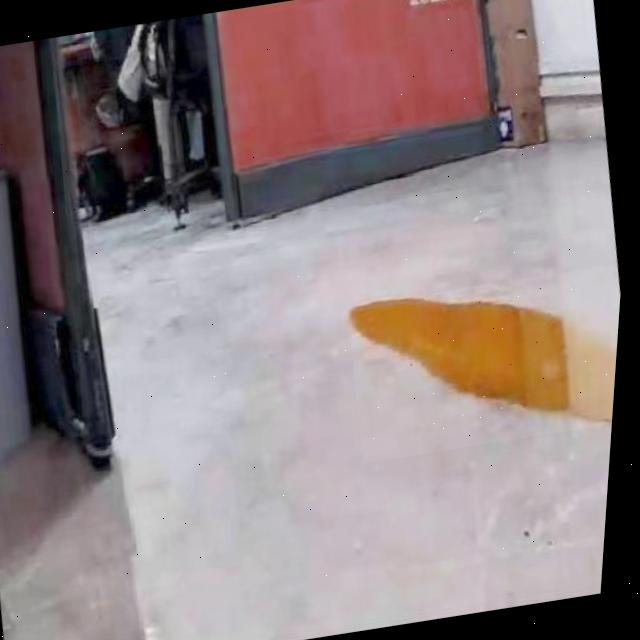spillage: (353, 299, 622, 423)
